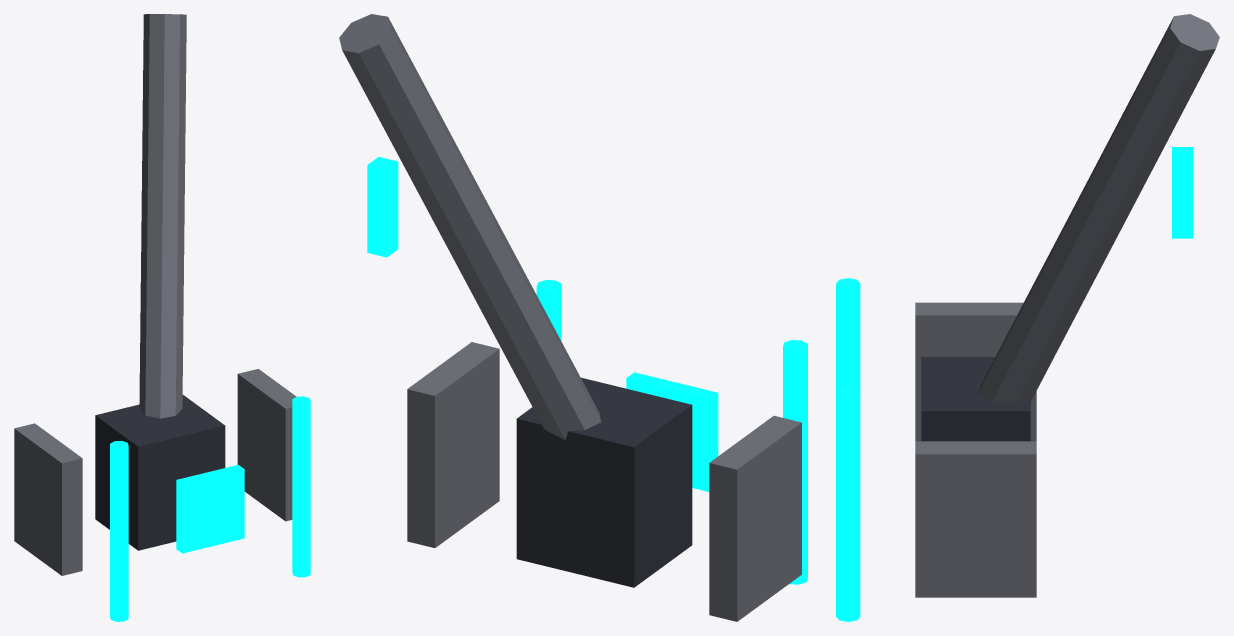
Rendered from Weapon_Hammer.glb.
3 views of the same model, side by side, from view 1: azimuth 30°, elevation 25°; view 2: azimuth 150°, elevation 25°; view 3: azimuth 270°, elevation 25° (orthographic). The views are drawn at different scales.
Parts seen in each view (by area): view 1: Weapon_Hammer; view 2: Weapon_Hammer; view 3: Weapon_Hammer.
Part boxes in pixels (left/top/right/bottom): Weapon_Hammer: left=14, top=14, right=310, bottom=621; Weapon_Hammer: left=339, top=14, right=807, bottom=621; Weapon_Hammer: left=836, top=14, right=1219, bottom=621.
Bounding box in the file's own units: 0.59 × 1.08 × 0.631.
